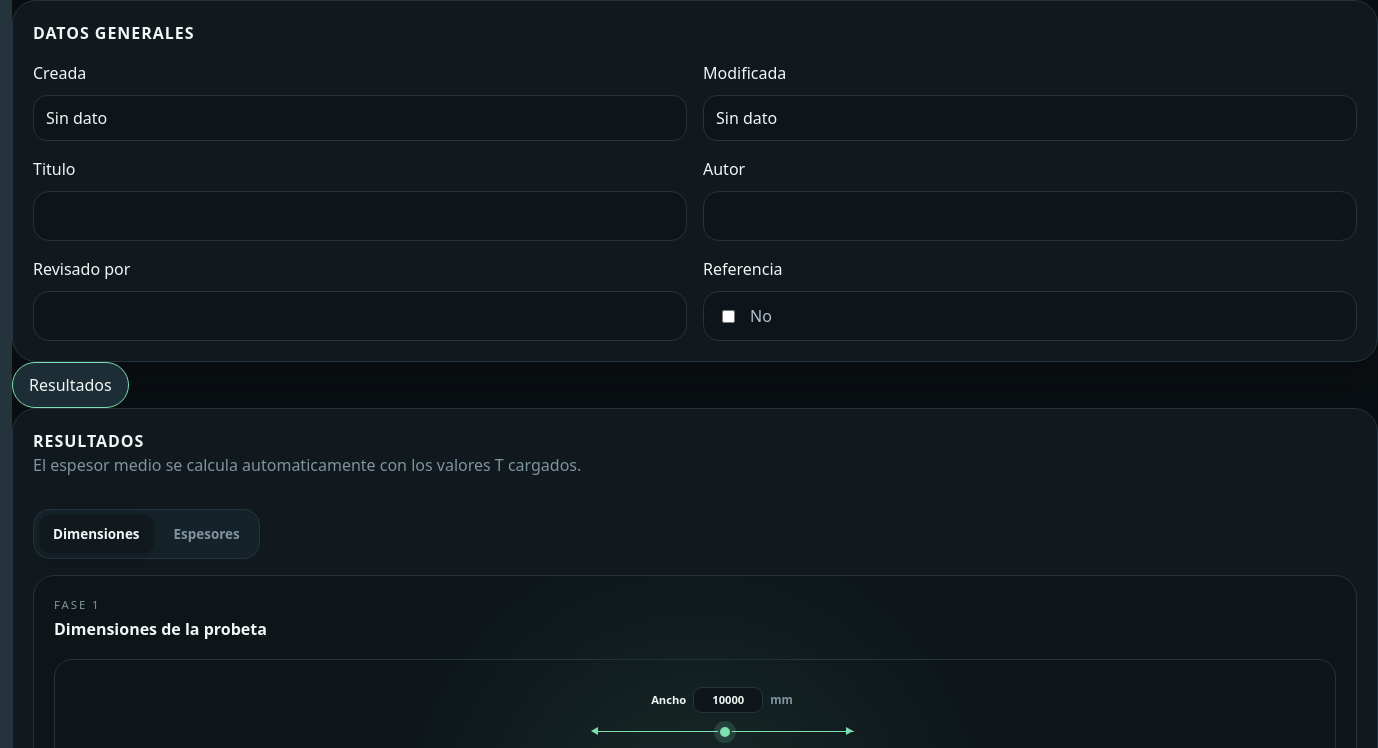
resultados de la probeta › muestra los ocho puntos A-H al abrir la fase de espesores
The width and height of the screenshot is (1378, 748).
Click the button "Espesores" at (207, 534), box [160,515,254,553]
(page scrolled)
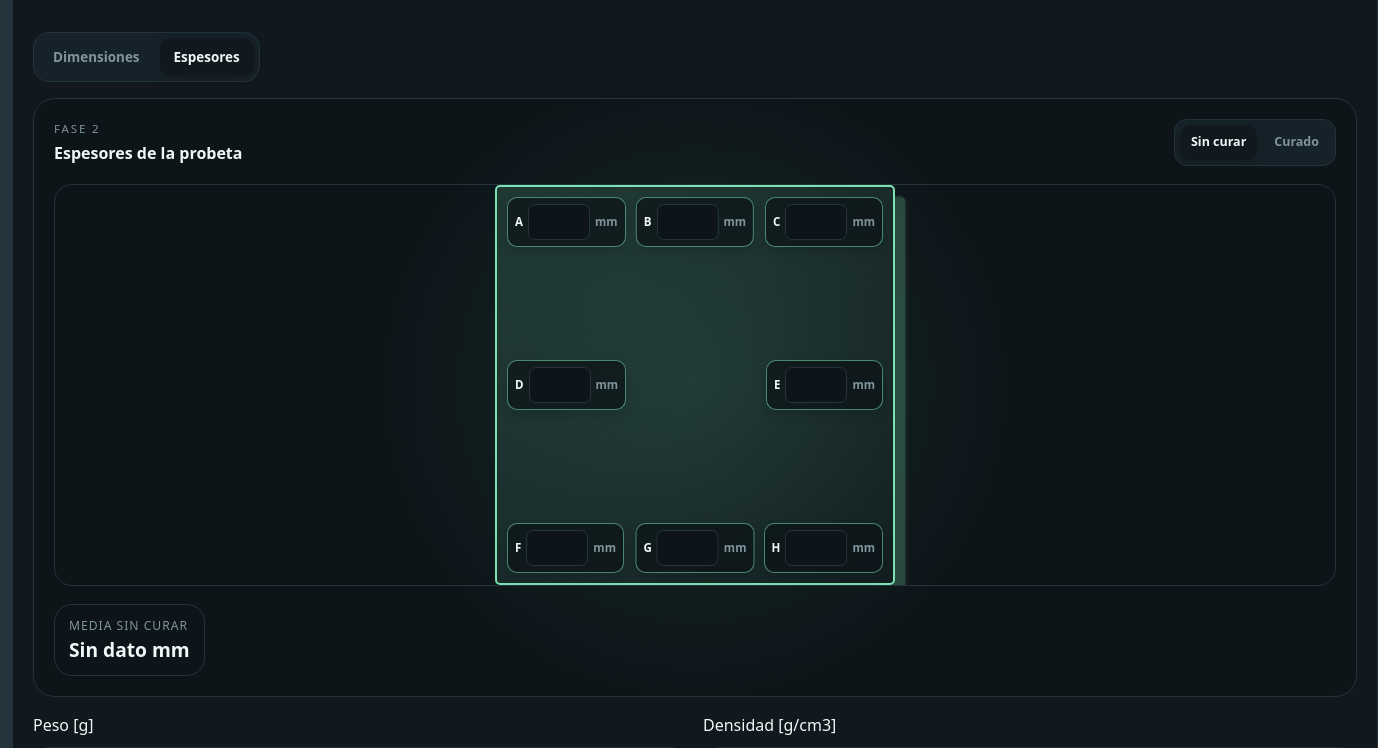
Now the text "A" is shown 8 times
Now the element with class "thickness-specimen--roomy" is shown, box [495,185,895,585]
